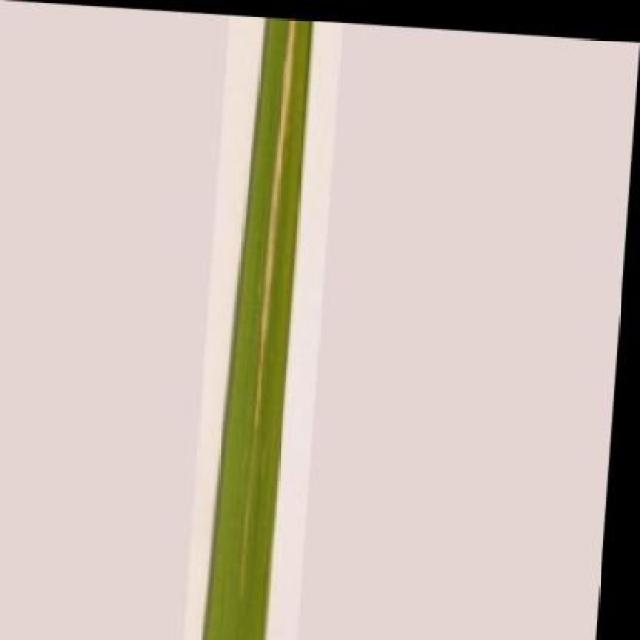Brown_Spot: (210, 12, 318, 640)
